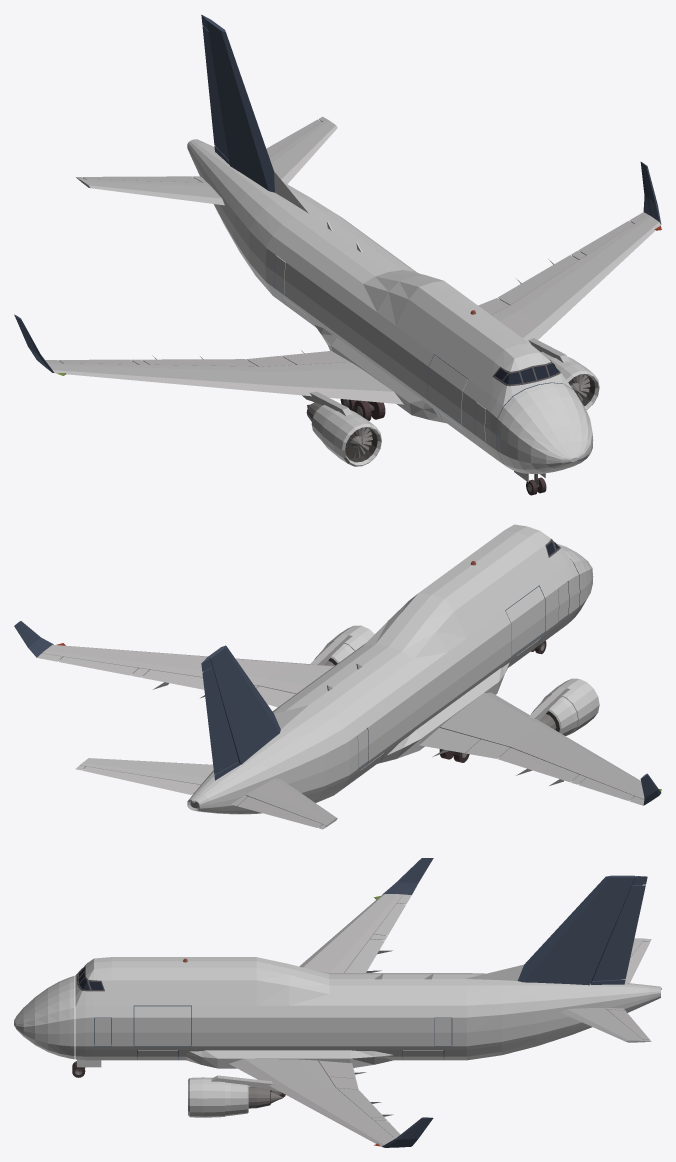
File: cargo-freighter-b4377e.glb
The picture shows the model from 3 angles, top to bottom: view 1: azimuth 30°, elevation 25°; view 2: azimuth 150°, elevation 25°; view 3: azimuth 270°, elevation 25°; orthographic projection. The views are drawn at different scales.
Visible parts, largest first — view 1: body, nose-door-mesh, rudder-mesh, flap-out-l-mesh, flap-out-r-mesh; view 2: body, rudder-mesh, flap-out-r-mesh, elevator-l-mesh, flap-in-r-mesh, nose-door-mesh, elevator-r-mesh, flap-out-l-mesh, aileron-l-mesh, aileron-r-mesh; view 3: body, nose-door-mesh, rudder-mesh, flap-out-r-mesh, flap-out-l-mesh, flap-in-l-mesh, door-crew-mesh, aileron-r-mesh.
Boxes of the visible parts, <box> form: body: <box>14,14,661,469</box>; nose-door-mesh: <box>497,383,593,473</box>; rudder-mesh: <box>202,25,228,159</box>; flap-out-l-mesh: <box>498,255,578,305</box>; flap-out-r-mesh: <box>142,355,257,366</box>; body: <box>14,524,661,829</box>; rudder-mesh: <box>202,667,238,774</box>; flap-out-r-mesh: <box>498,747,579,785</box>; elevator-l-mesh: <box>82,766,200,794</box>; flap-in-r-mesh: <box>419,728,480,756</box>; nose-door-mesh: <box>556,543,593,618</box>; elevator-r-mesh: <box>238,796,322,827</box>; flap-out-l-mesh: <box>142,669,258,698</box>; aileron-l-mesh: <box>58,657,138,675</box>; aileron-r-mesh: <box>579,777,634,800</box>; body: <box>75,858,661,1147</box>; nose-door-mesh: <box>14,976,74,1059</box>; rudder-mesh: <box>592,885,645,981</box>; flap-out-r-mesh: <box>344,939,392,972</box>; flap-out-l-mesh: <box>336,1088,393,1118</box>; flap-in-l-mesh: <box>318,1060,366,1078</box>; door-crew-mesh: <box>94,1018,111,1045</box>; aileron-r-mesh: <box>373,903,406,935</box>.
Size of the model in its own units: 38.08 by 13.55 by 40.06.
